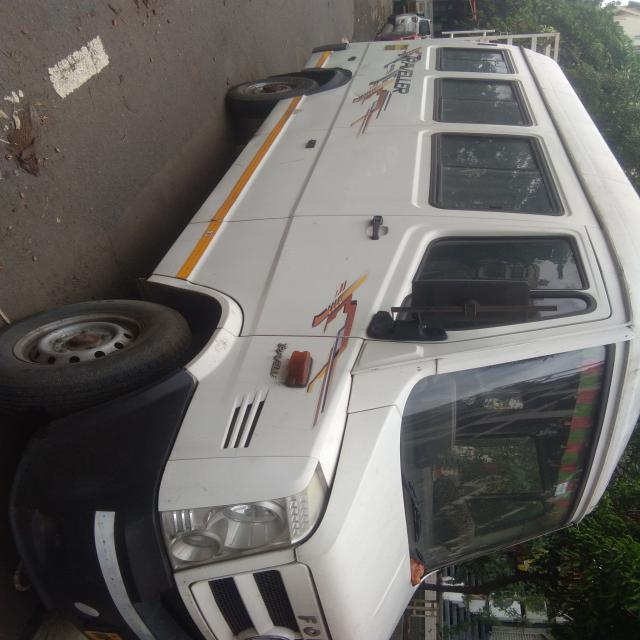Traveller: (3, 39, 638, 640)
